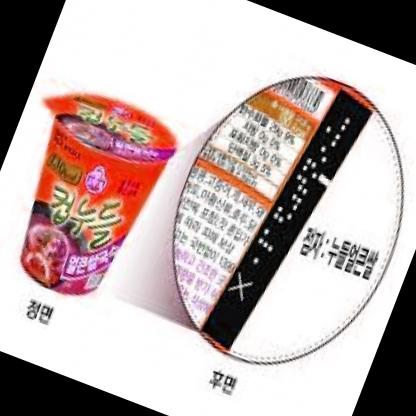Ramen: (0, 62, 192, 319)
